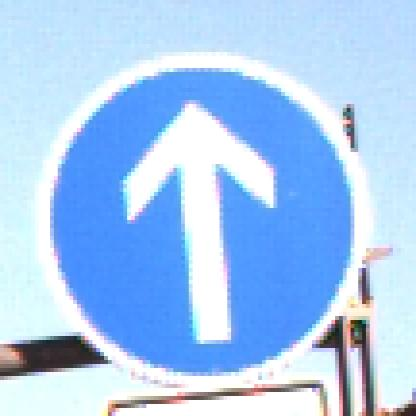AheadOnly: (40, 41, 383, 381)
